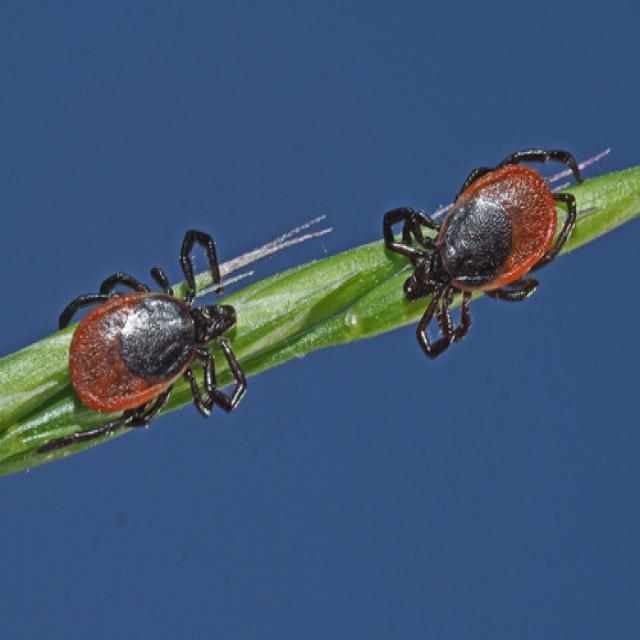Ixodes Ricinus-F: (35, 230, 247, 464), (384, 150, 584, 362)
